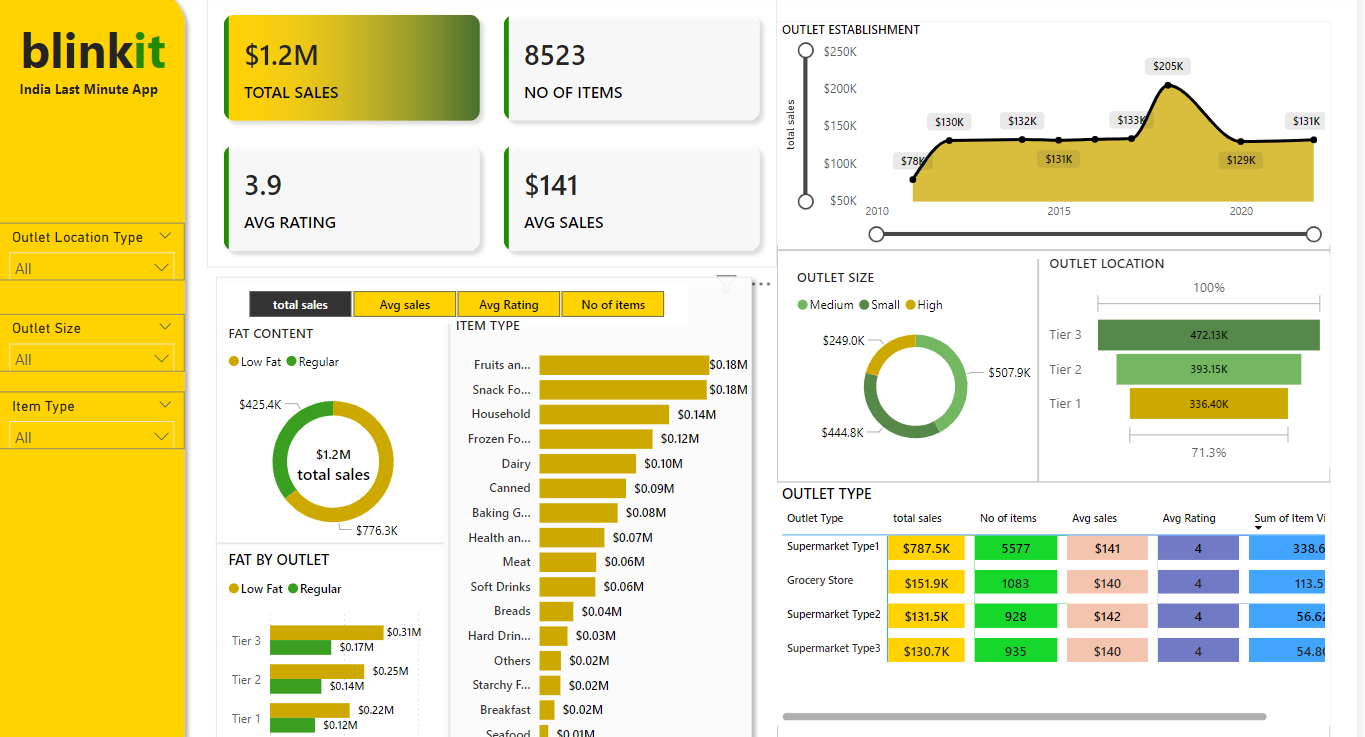

Layout of this report page (visuals, bound fields, positions):
{"tool":"powerbi","page":{"name":"Page 1","canvas":[1400,800],"ordinal":0},"visuals":[{"type":"shape","box":[31.5,0,205.6,800],"z":0},{"type":"textbox","box":[52.5,33,166.6,75],"z":1000},{"type":"textbox","box":[57.1,95.7,162.9,28.6],"z":2000},{"type":"cardVisual","fields":{"Data":["BlinkIT Grocery Data.total sales","BlinkIT Grocery Data.No of items","BlinkIT Grocery Data.Avg Rating","BlinkIT Grocery Data.Avg sales"]},"box":[250,18.6,570,270],"z":3000},{"type":"shape","box":[249.3,296.2,555,493.3],"z":4000},{"type":"donutChart","title":"FAT CONTENT","fields":{"Y":["BlinkIT Grocery Data.total sales"],"Category":["BlinkIT Grocery Data.Item Fat Content"]},"box":[262.4,345.1,220,230],"z":5000},{"type":"slicer","fields":{"Values":["Metrics.Metrics"]},"box":[282.8,296.2,465.1,40.2],"z":6000},{"type":"cardVisual","fields":{"Data":["BlinkIT Grocery Data.total sales"]},"box":[322.2,448.9,108.9,63.3],"z":7000},{"type":"clusteredBarChart","title":"FAT BY OUTLET","fields":{"Y":["BlinkIT Grocery Data.total sales"],"Category":["BlinkIT Grocery Data.Outlet Location Type"],"Series":["BlinkIT Grocery Data.Item Fat Content"]},"box":[262.4,569.6,220,230],"z":8000},{"type":"shape","box":[258.9,558.9,227.8,11.1],"z":9000},{"type":"shape","box":[486.7,344.4,12.2,428.9],"z":10000},{"type":"barChart","title":"ITEM TYPE","fields":{"Y":["BlinkIT Grocery Data.total sales"],"Category":["BlinkIT Grocery Data.Item Type"]},"box":[489,336.2,302.2,444.4],"z":11000},{"type":"shape","box":[803,41.6,596.5,740],"z":12000},{"type":"lineChart","title":"OUTLET ESTABLISHMENT","fields":{"Y":["BlinkIT Grocery Data.total sales"],"Category":["BlinkIT Grocery Data.Outlet Establishment Year"]},"box":[803,41.6,596.5,223.9],"z":13000},{"type":"shape","box":[820.4,265.4,579.1,12.1],"z":14000},{"type":"donutChart","title":"OUTLET SIZE","fields":{"Y":["BlinkIT Grocery Data.total sales"],"Category":["BlinkIT Grocery Data.Outlet Size"]},"box":[803,289.5,278.8,191.7],"z":15000},{"type":"shape","box":[1075.6,280,12.2,223.3],"z":16000},{"type":"funnel","title":"OUTLET LOCATION","fields":{"Category":["BlinkIT Grocery Data.Outlet Location Type"],"Y":["Sum(BlinkIT Grocery Data.Sales)"]},"box":[1087.1,276.1,312.3,213.1],"z":17000},{"type":"shape","box":[820.4,493.3,579.1,10.7],"z":18000},{"type":"pivotTable","title":"OUTLET TYPE","fields":{"Rows":["BlinkIT Grocery Data.Outlet Type"],"Values":["BlinkIT Grocery Data.total sales","BlinkIT Grocery Data.No of items","BlinkIT Grocery Data.Avg sales","BlinkIT Grocery Data.Avg Rating","Sum(BlinkIT Grocery Data.Item Visibility)"]},"box":[803,502.7,596.5,278.8],"z":19000},{"type":"slicer","fields":{"Values":["BlinkIT Grocery Data.Outlet Location Type"]},"box":[41.6,244,186.3,57.6],"z":20000},{"type":"slicer","fields":{"Values":["BlinkIT Grocery Data.Item Type"]},"box":[41.1,412.2,186.7,57.8],"z":21000},{"type":"slicer","fields":{"Values":["BlinkIT Grocery Data.Outlet Size"]},"box":[41.1,334.4,186.7,57.8],"z":22000},{"type":"image","box":[111.3,624.7,52.3,52.3],"z":22002},{"type":"image","box":[104.6,548.3,57.6,53.6],"z":22003}]}

Visuals, with their boxes on the page's 1400x800 design canvas (x1, y1, x2, y2). These are canvas units, not pixel positions in the 1365x737 screenshot, which may show the page scaled, cropped or inside an application window:
shape: BBox(32, 0, 237, 800)
textbox: BBox(52, 33, 219, 108)
textbox: BBox(57, 96, 220, 124)
cardVisual - BlinkIT Grocery Data.total sales x BlinkIT Grocery Data.No of items: BBox(250, 19, 820, 289)
shape: BBox(249, 296, 804, 790)
"FAT CONTENT" donutChart: BBox(262, 345, 482, 575)
slicer - Metrics.Metrics: BBox(283, 296, 748, 336)
cardVisual - BlinkIT Grocery Data.total sales: BBox(322, 449, 431, 512)
"FAT BY OUTLET" clusteredBarChart: BBox(262, 570, 482, 800)
shape: BBox(259, 559, 487, 570)
shape: BBox(487, 344, 499, 773)
"ITEM TYPE" barChart: BBox(489, 336, 791, 781)
shape: BBox(803, 42, 1400, 782)
"OUTLET ESTABLISHMENT" lineChart: BBox(803, 42, 1400, 266)
shape: BBox(820, 265, 1400, 278)
"OUTLET SIZE" donutChart: BBox(803, 290, 1082, 481)
shape: BBox(1076, 280, 1088, 503)
"OUTLET LOCATION" funnel: BBox(1087, 276, 1399, 489)
shape: BBox(820, 493, 1400, 504)
"OUTLET TYPE" pivotTable: BBox(803, 503, 1400, 782)
slicer - BlinkIT Grocery Data.Outlet Location Type: BBox(42, 244, 228, 302)
slicer - BlinkIT Grocery Data.Item Type: BBox(41, 412, 228, 470)
slicer - BlinkIT Grocery Data.Outlet Size: BBox(41, 334, 228, 392)
image: BBox(111, 625, 164, 677)
image: BBox(105, 548, 162, 602)
